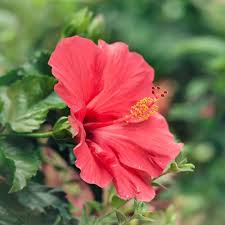hybiscus: (49, 35, 184, 205)
